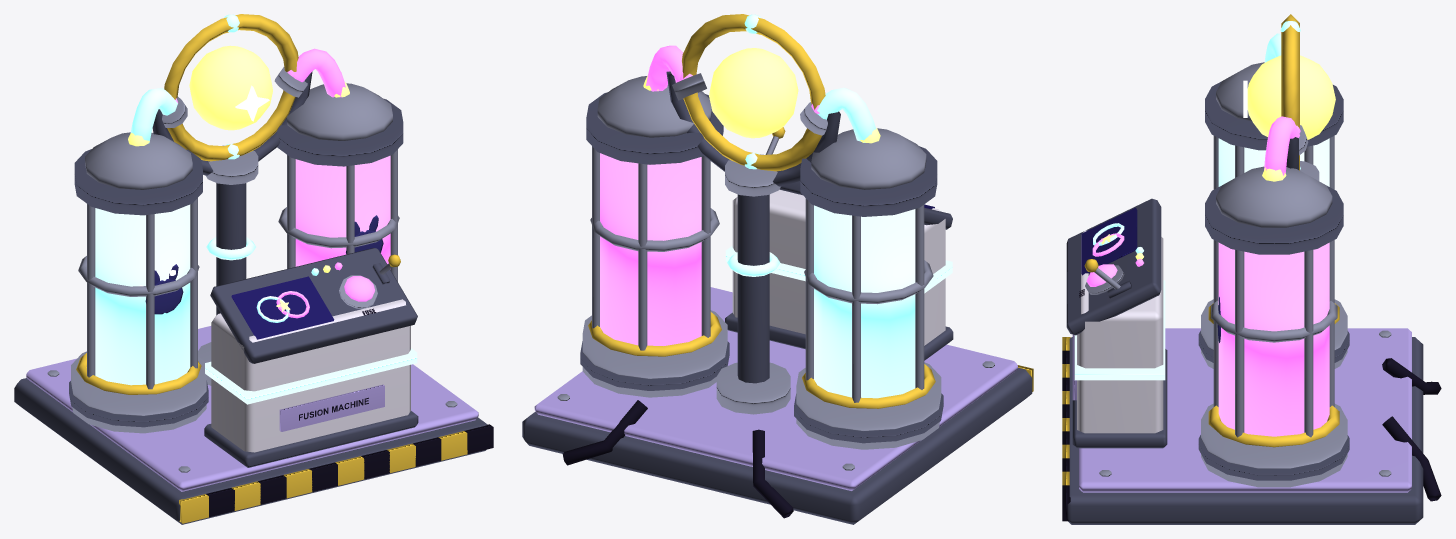
Rendered from fusion_machine.glb.
3 views of the same model, side by side, from view 1: azimuth 30°, elevation 25°; view 2: azimuth 150°, elevation 25°; view 3: azimuth 270°, elevation 25° (orthographic). The views are drawn at different scales.
Parts seen in each view (by area): view 1: Pods, Console, Dais, Column, Orb, Ring; view 2: Pods, Dais, Column, Console, Orb, Ring; view 3: Pods, Dais, Console, Orb, Column, Ring.
Boxes of the visible parts, left/top/right/bottom form: Pods: left=69, top=82, right=403, bottom=433; Console: left=204, top=248, right=418, bottom=467; Dais: left=14, top=326, right=493, bottom=524; Column: left=130, top=48, right=345, bottom=385; Orb: left=189, top=45, right=272, bottom=130; Ring: left=164, top=14, right=298, bottom=161; Pods: left=580, top=75, right=943, bottom=449; Dais: left=522, top=287, right=1033, bottom=524; Column: left=646, top=45, right=876, bottom=414; Console: left=725, top=127, right=953, bottom=360; Orb: left=709, top=48, right=798, bottom=138; Ring: left=680, top=14, right=825, bottom=171; Pods: left=1198, top=62, right=1349, bottom=487; Dais: left=1062, top=328, right=1441, bottom=524; Console: left=1066, top=198, right=1167, bottom=448; Orb: left=1243, top=55, right=1335, bottom=139; Column: left=1264, top=33, right=1319, bottom=180; Ring: left=1280, top=14, right=1300, bottom=170.
Bounding box in the file's own units: 1.92 × 2.28 × 1.84.
